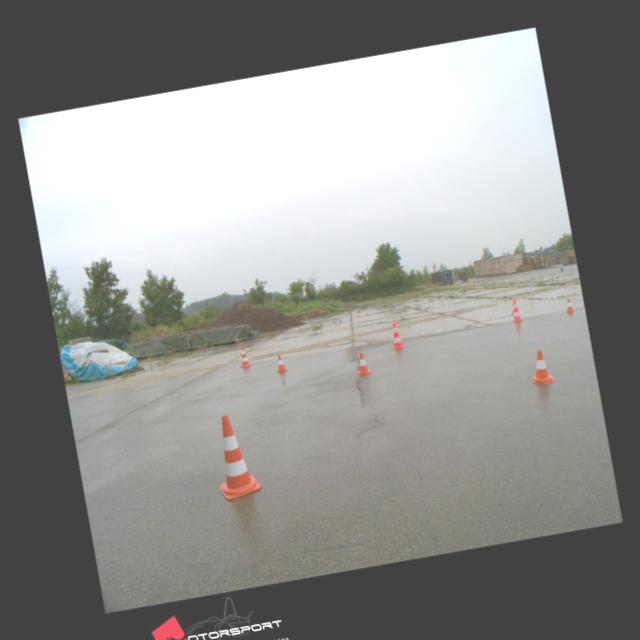large_orange_cone: (206, 410, 261, 500), (387, 321, 404, 348), (236, 343, 251, 368), (508, 298, 522, 322)
orange_cone: (526, 346, 554, 386), (352, 350, 371, 376), (274, 354, 287, 372), (564, 298, 574, 312)
